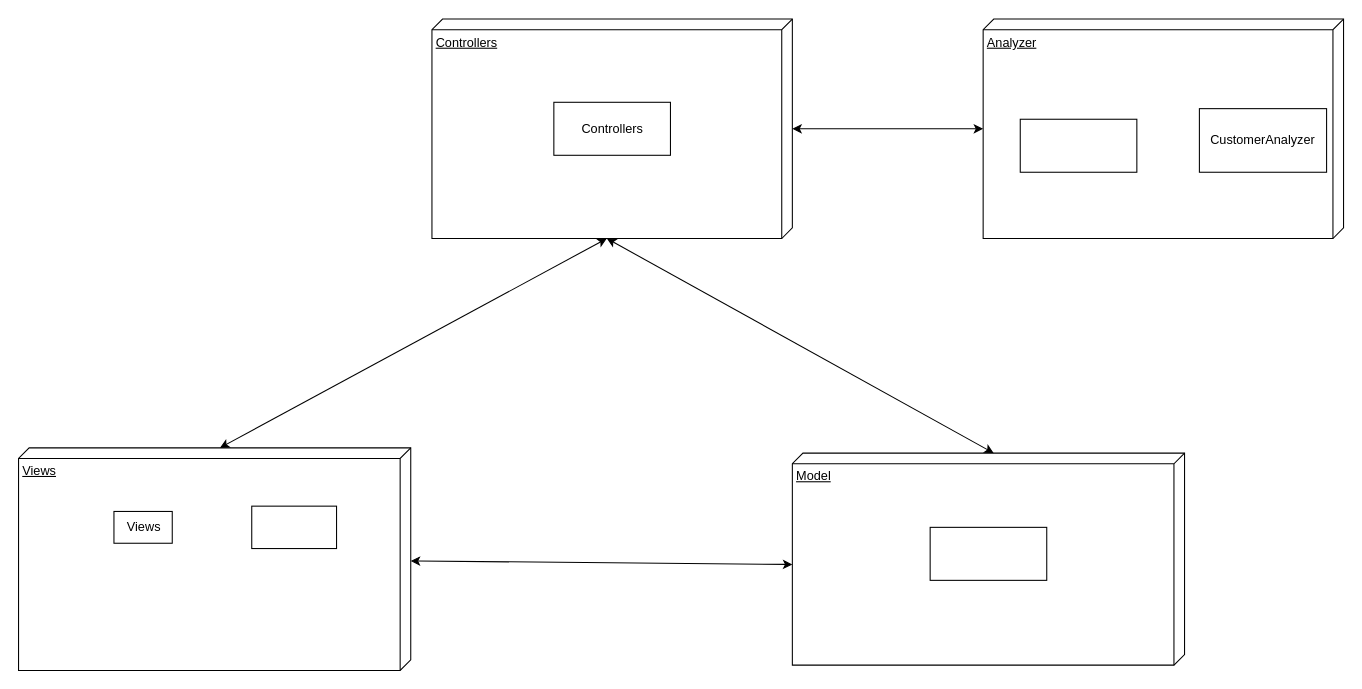
Some shapes in this 1362 by 689 pixel diagram are drawn without their labels. Each missing label, with the box of its shape:
Domain models: (929, 526, 1047, 580)
Static files: (251, 505, 337, 549)
WEB API: (1019, 118, 1137, 172)
